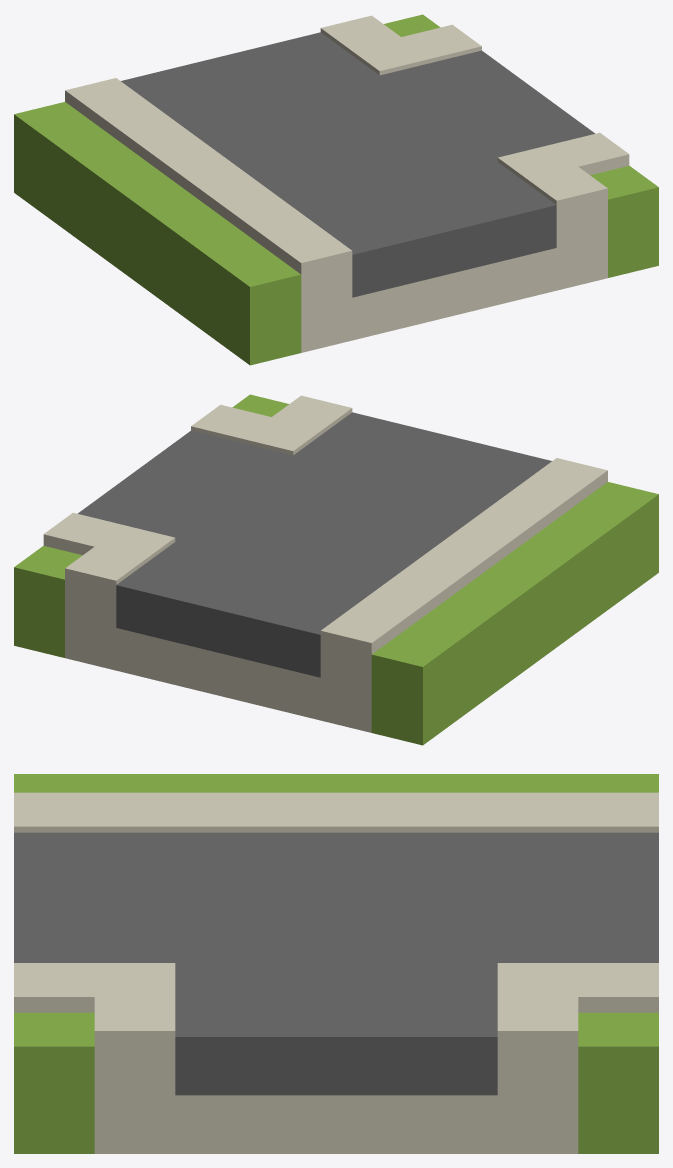
Rendered from roadTile_150.obj.
The picture shows the model from 3 angles, top to bottom: view 1: azimuth 30°, elevation 25°; view 2: azimuth 150°, elevation 25°; view 3: azimuth 270°, elevation 25°; orthographic projection. The views are drawn at different scales.
Visible parts, largest first — view 1: Mesh1_Group1_Model.131; view 2: Mesh1_Group1_Model.131; view 3: Mesh1_Group1_Model.131.
Boxes of the visible parts, <box> form: Mesh1_Group1_Model.131: <box>14,14,658,365</box>; Mesh1_Group1_Model.131: <box>14,394,658,745</box>; Mesh1_Group1_Model.131: <box>14,774,658,1153</box>.
Size of the model in its own units: 3 by 0.63 by 3.
